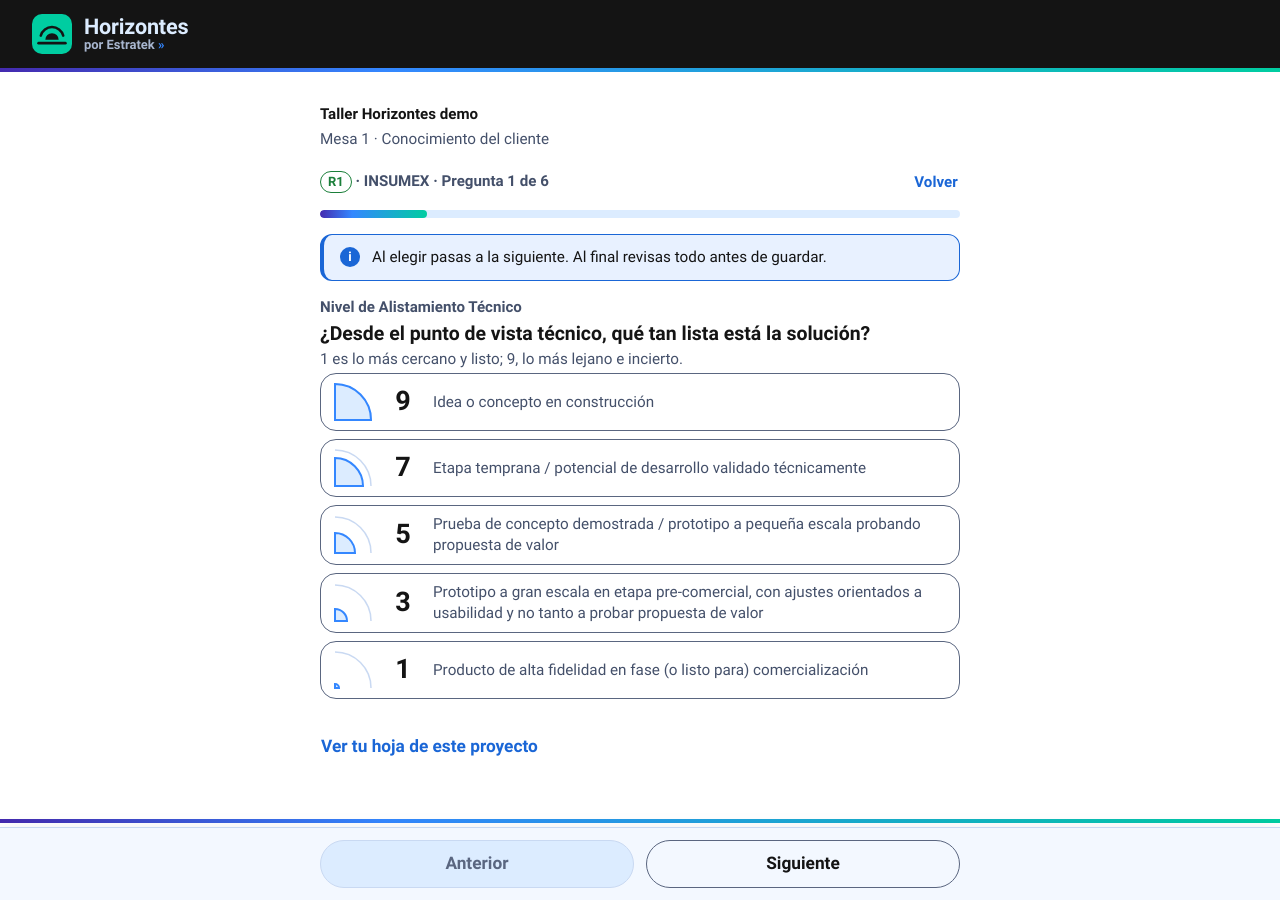
5. pregunta compacta › una línea «R1 · INSUMEX · Pregunta 1 de 6» con «Volver» pequeño, sin el título grande ni la fase
The width and height of the screenshot is (1280, 900).
Expected: the heading reads "R1 · INSUMEX · Pregunta 1 de 6", [320,171,549,193]
Expected: the text with class "hz-insignia--r1" reads "R1", [328,174,344,189]
Click the button with aria-label "Volver a los proyectos" at (936, 182), box [912,158,960,206]
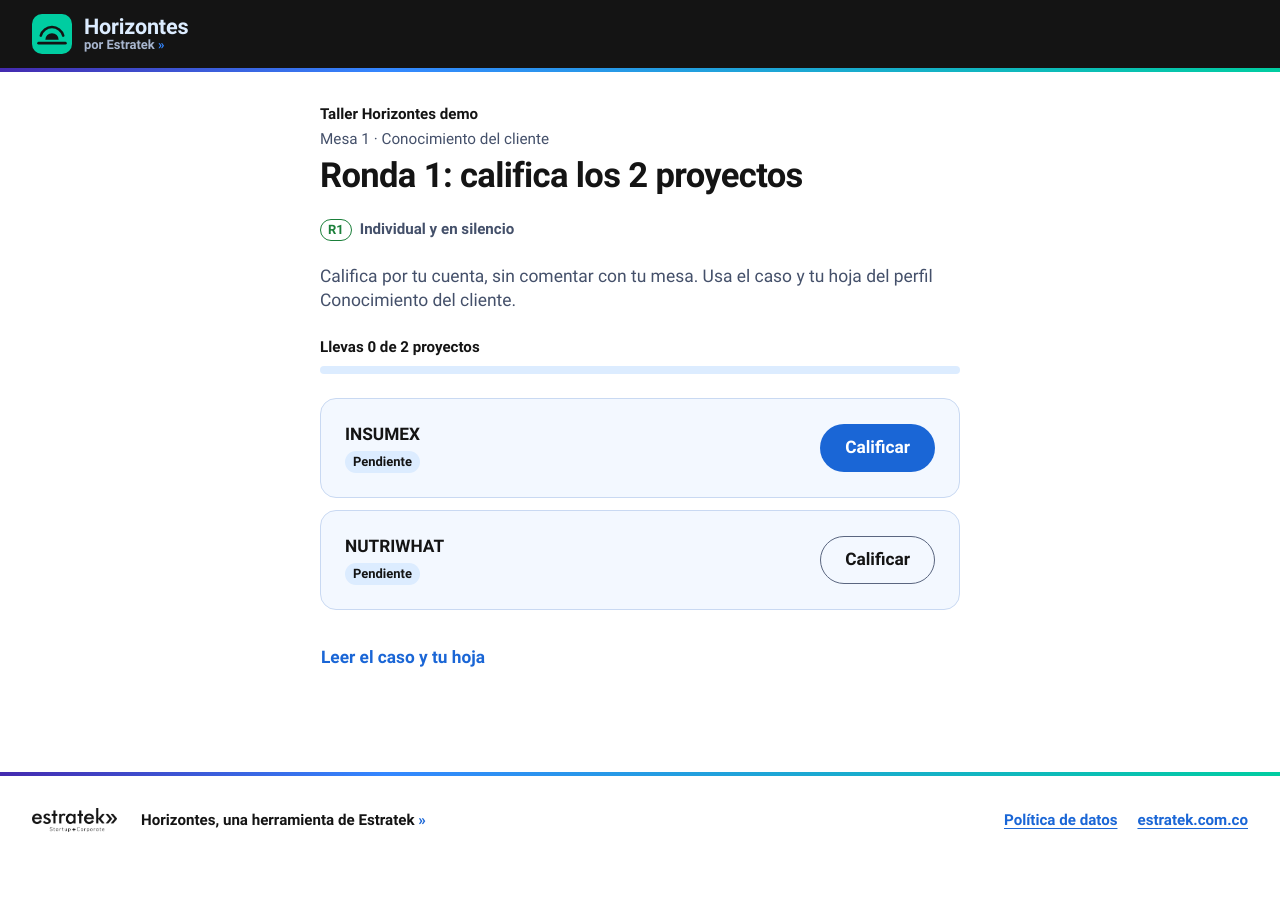
Result: the heading "Ronda 1: califica los 2 proyectos" is shown at [320,156,803,195]
